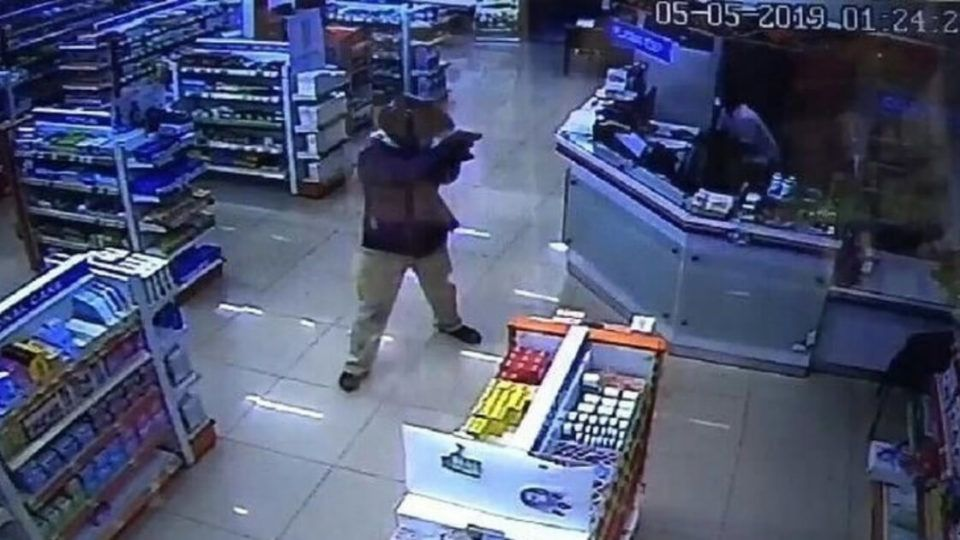gun: (439, 123, 498, 167)
